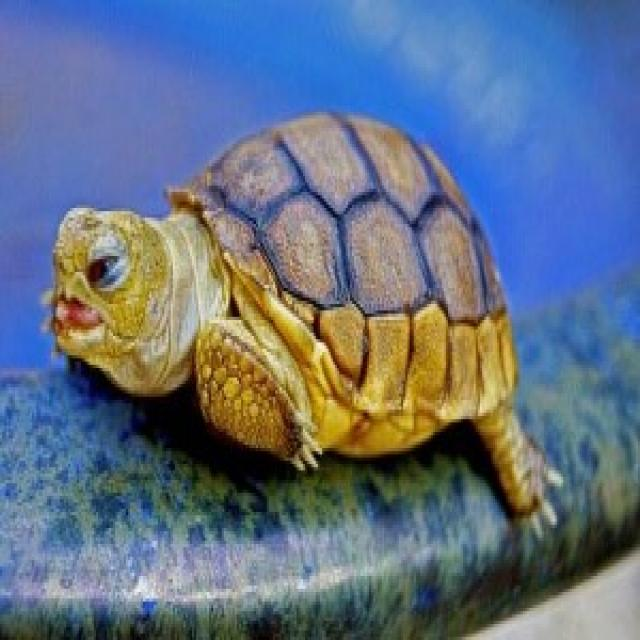Sea turtle: (9, 112, 568, 524)
